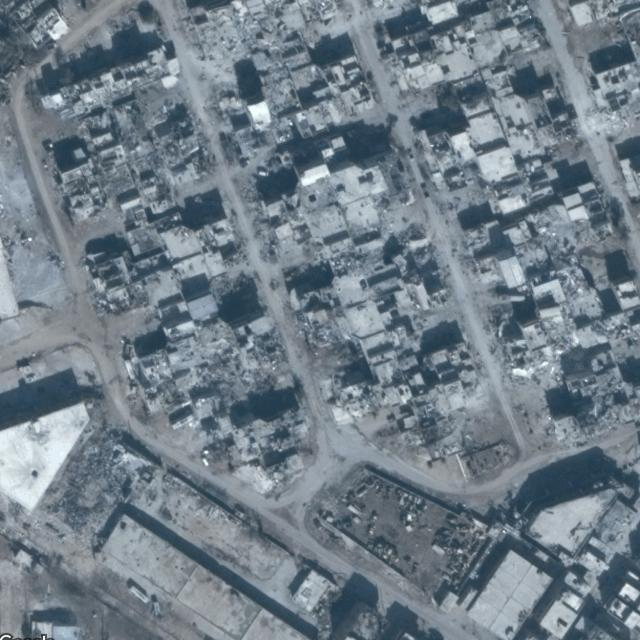damaged_building: (171, 1, 496, 447), (22, 0, 314, 496), (359, 1, 639, 446), (38, 424, 248, 551)
